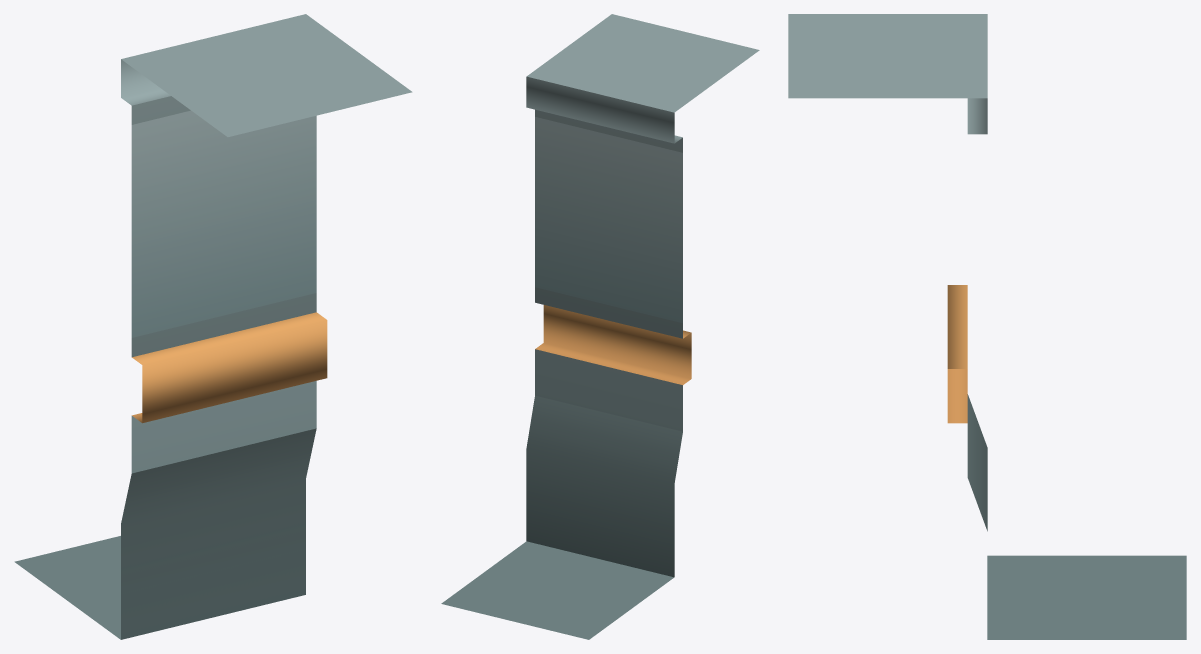
Rendered from structure-wall.glb.
3 renders of one model, left to right at view 1: azimuth 30°, elevation 25°; view 2: azimuth 150°, elevation 25°; view 3: azimuth 270°, elevation 25°, orthographic. The views are drawn at different scales.
Visible parts, largest first — view 1: structure-wall; view 2: structure-wall; view 3: structure-wall.
Boxes of the visible parts, x1=… form: structure-wall: x1=14, y1=14, x2=412, y2=639; structure-wall: x1=441, y1=14, x2=759, y2=639; structure-wall: x1=788, y1=14, x2=1186, y2=639.
Bounding box in the file's own units: 1 × 3 × 2.
1 material, 1 textured.
